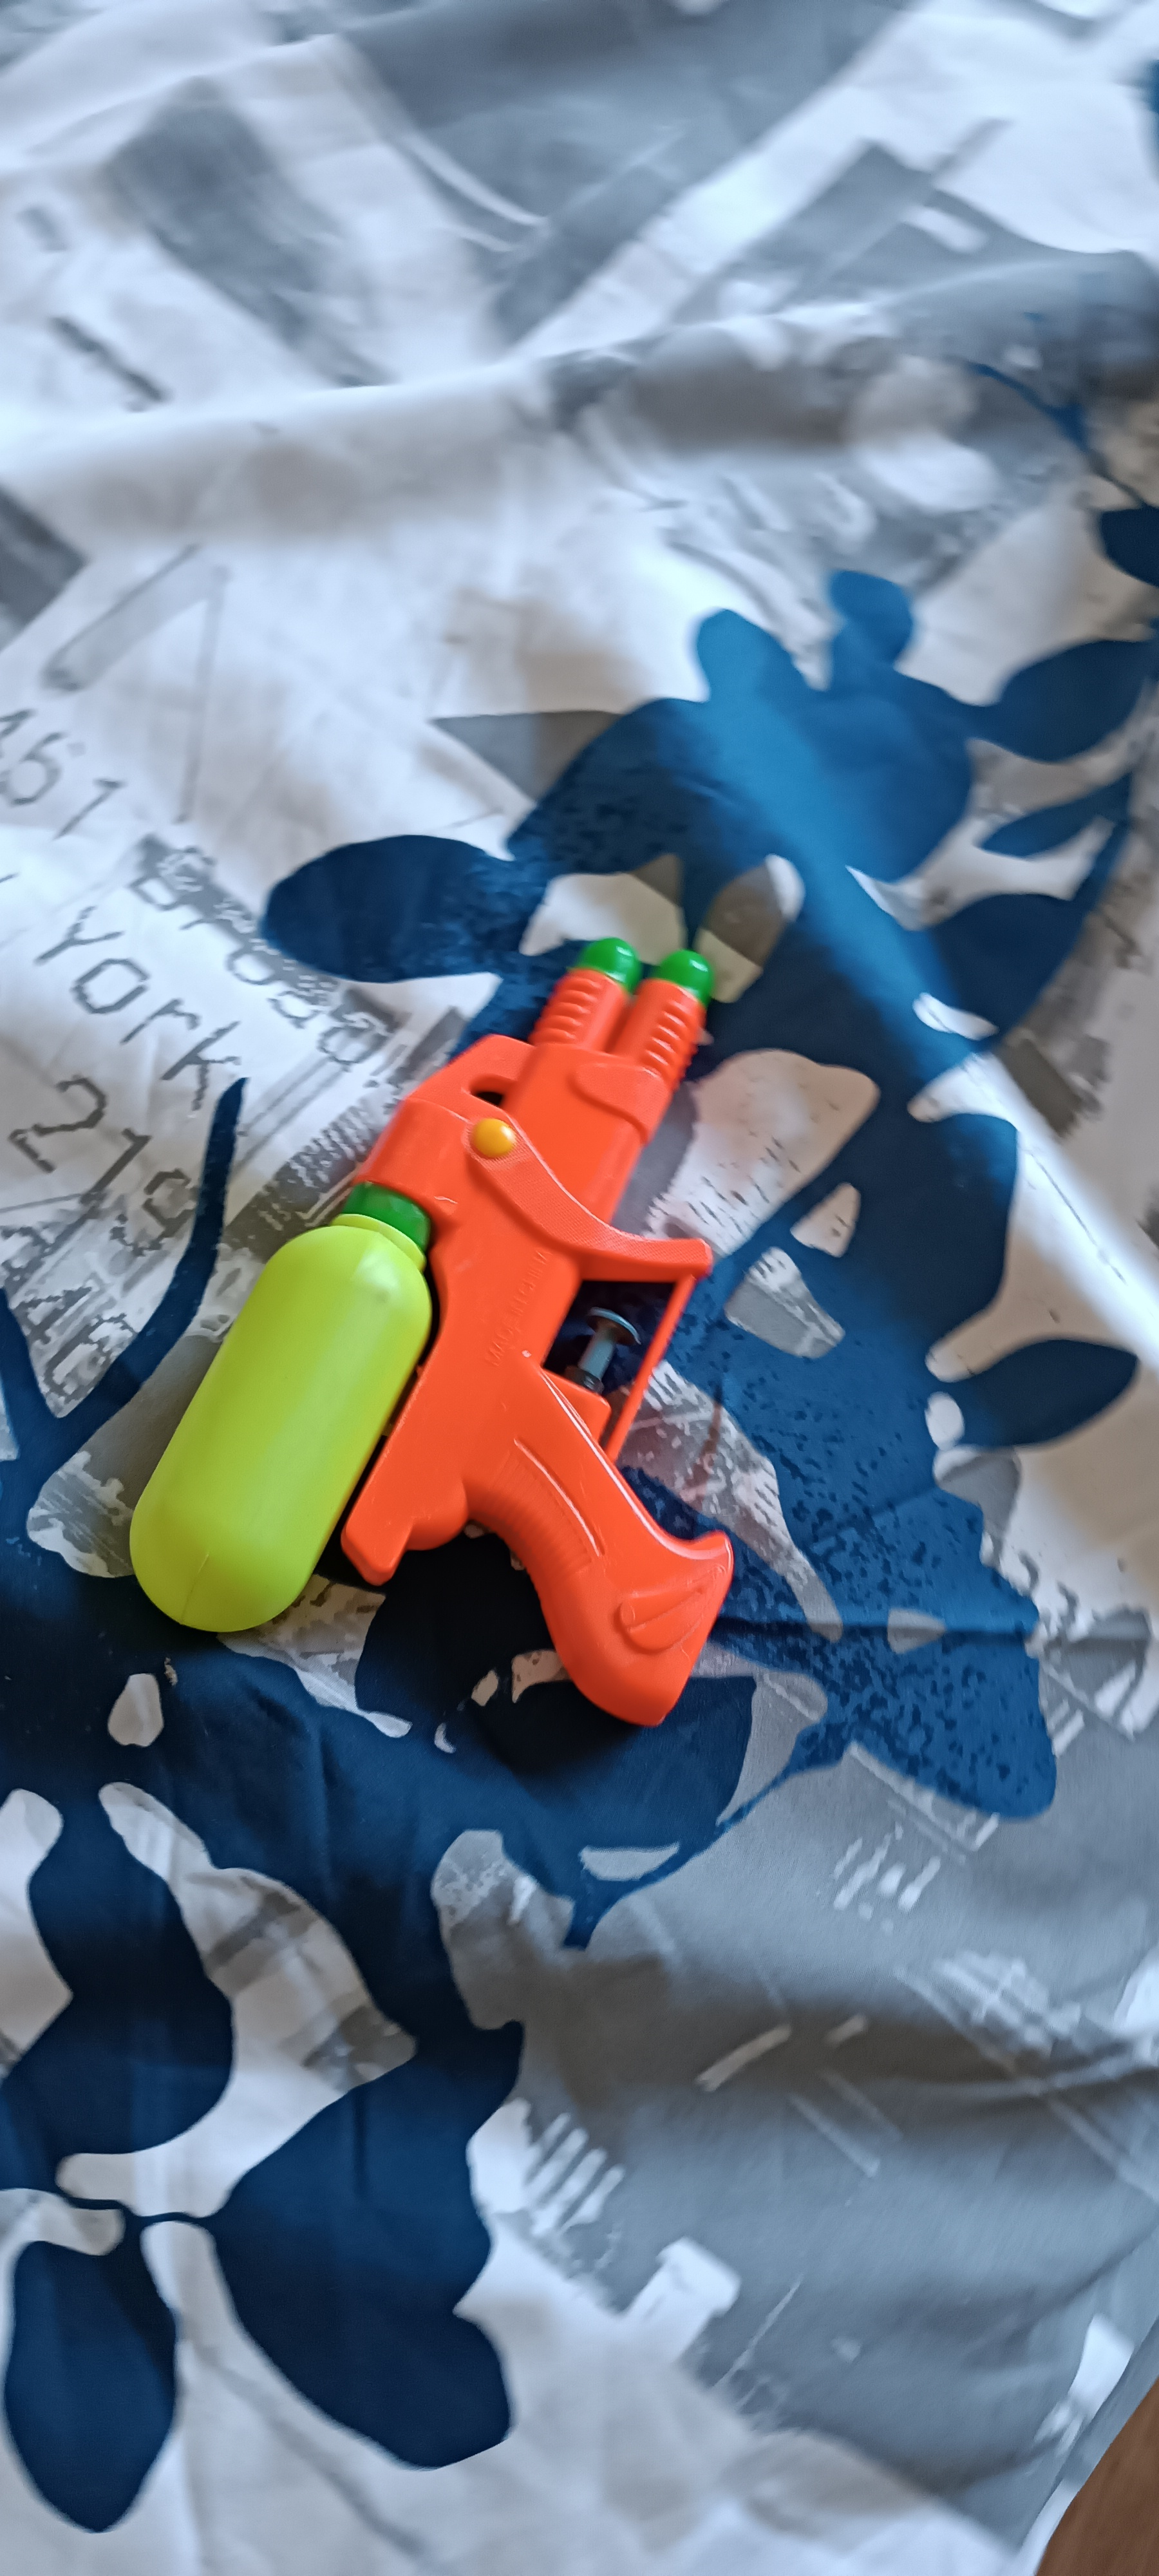Water Gun: (128, 936, 737, 1733)
